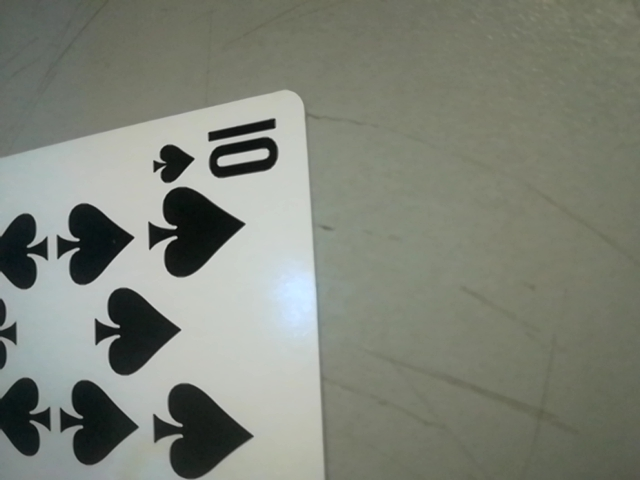ht 10: (149, 107, 286, 187)
